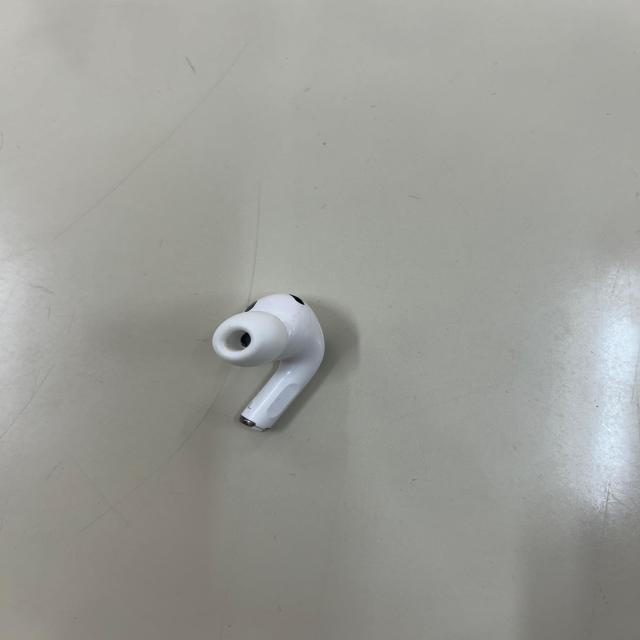inorganic: (213, 292, 327, 431)
